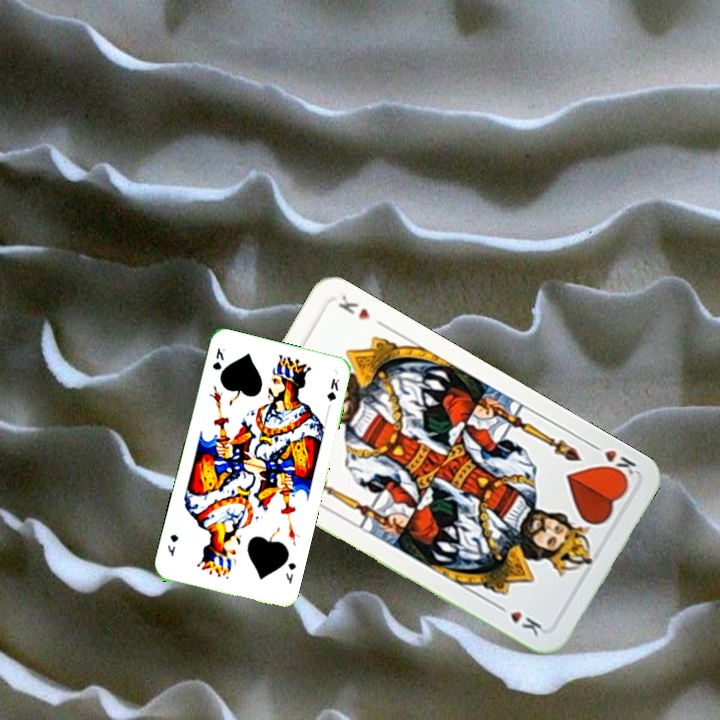GK: (208, 344, 228, 372), (282, 558, 299, 586)
HK: (585, 439, 640, 484)
